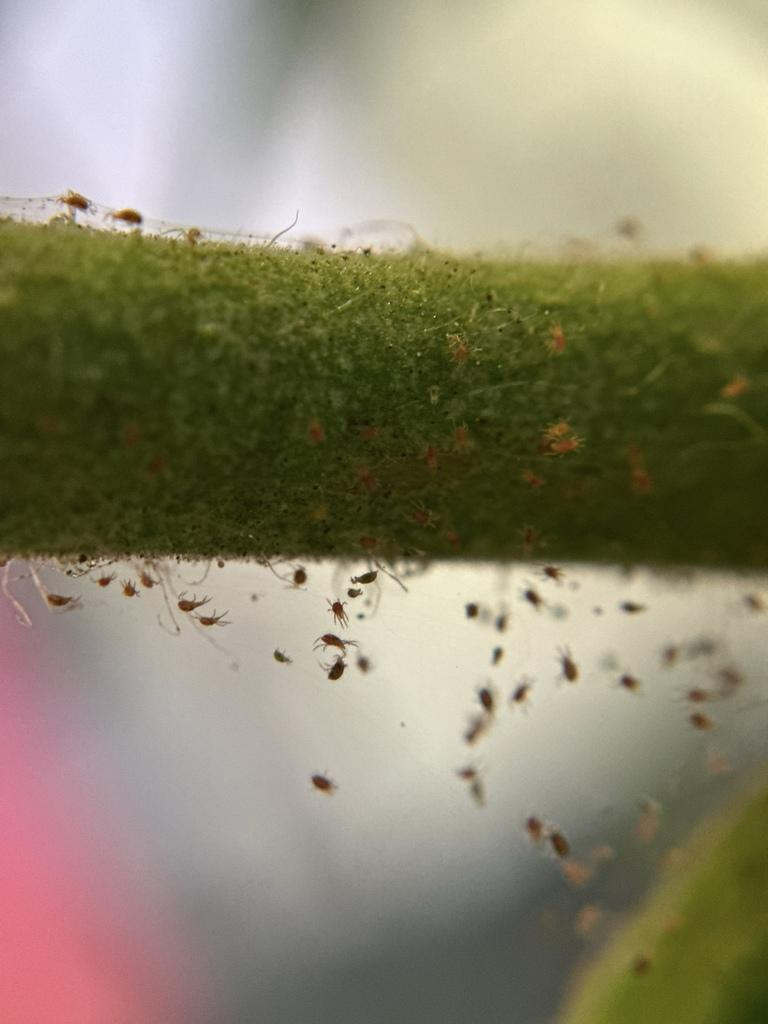tiny_pests: (37, 571, 233, 646), (280, 560, 394, 683), (531, 403, 590, 472), (52, 183, 104, 228), (109, 195, 154, 240), (304, 753, 344, 803)
